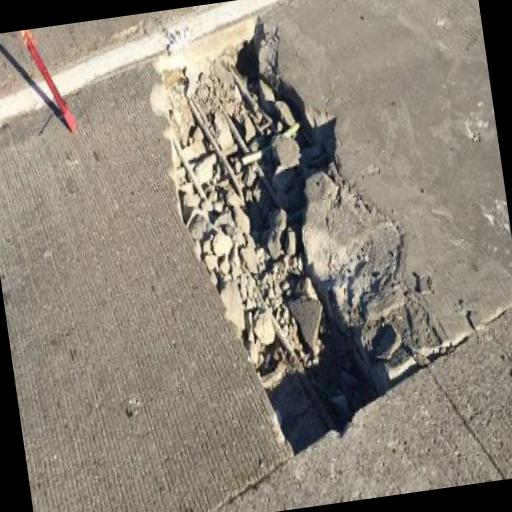pothole: (143, 0, 411, 473)
